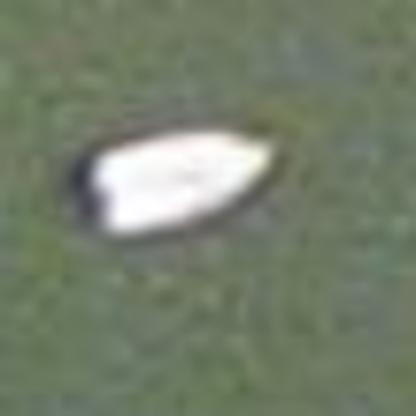ship: (64, 111, 286, 243)
